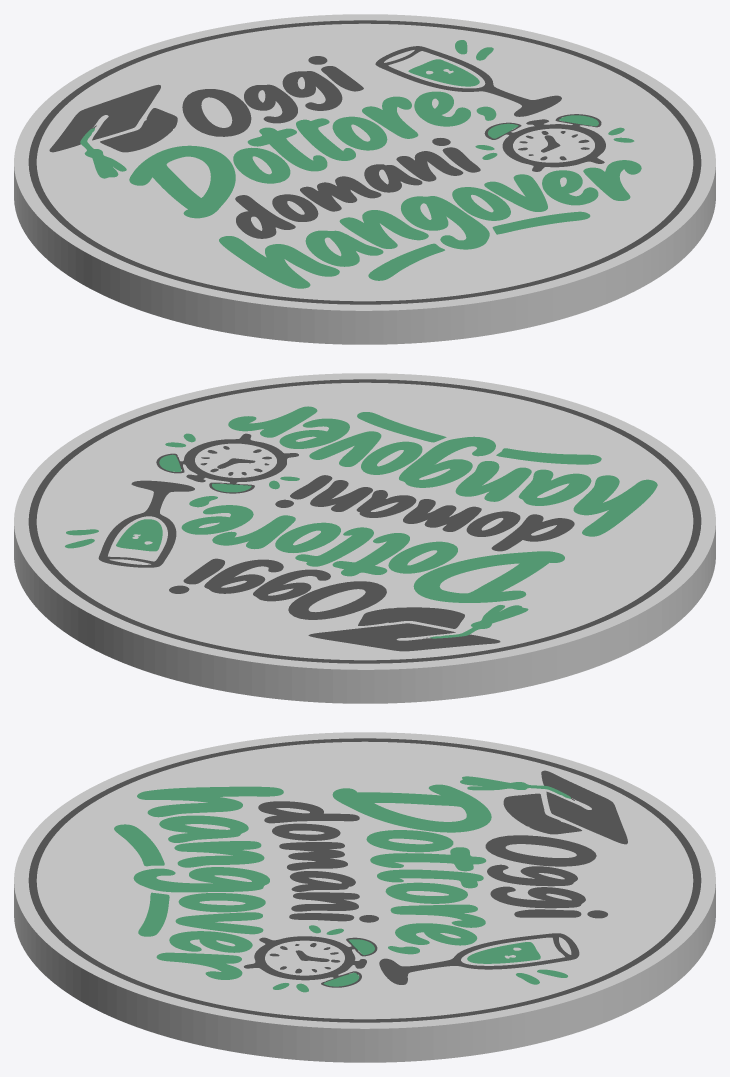
Rendered from sottobicchiere-oggi-dottore-domani-hangover.glb.
3 renders of one model, top to bottom at view 1: azimuth 30°, elevation 25°; view 2: azimuth 150°, elevation 25°; view 3: azimuth 270°, elevation 25°, orthographic.
Parts seen in each view (by area): view 1: coaster_base, coaster_accent, coaster_ink; view 2: coaster_base, coaster_accent, coaster_ink; view 3: coaster_base, coaster_accent, coaster_ink.
Part boxes in pixels (x1,y1,x2,y2): coaster_base: (14,14,715,344); coaster_accent: (80,40,641,288); coaster_ink: (28,20,701,304); coaster_base: (14,373,715,703); coaster_accent: (65,406,657,638); coaster_ink: (28,379,701,663); coaster_base: (14,732,715,1062); coaster_accent: (114,776,570,992); coaster_ink: (28,738,701,1022).
Bounding box in the file's own units: 0.075 × 0.004 × 0.075.
